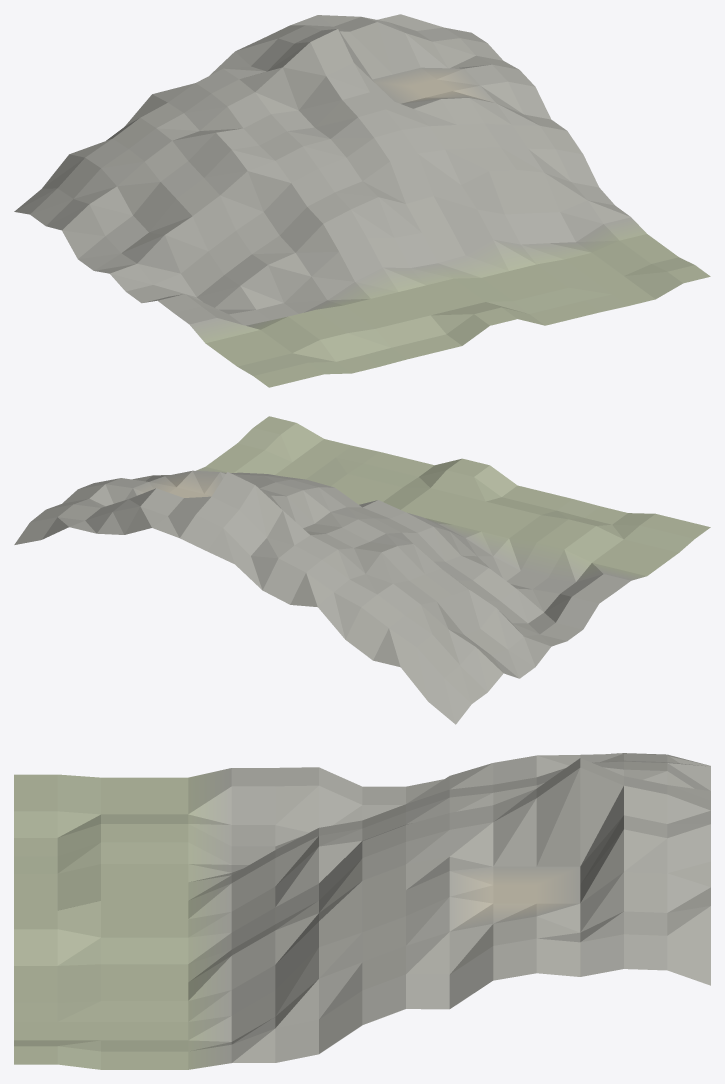
The picture shows the model from 3 angles, top to bottom: view 1: azimuth 30°, elevation 25°; view 2: azimuth 150°, elevation 25°; view 3: azimuth 270°, elevation 25°; orthographic projection. The views are drawn at different scales.
Bounding box in the file's own units: 32 × 10.86 × 32.
